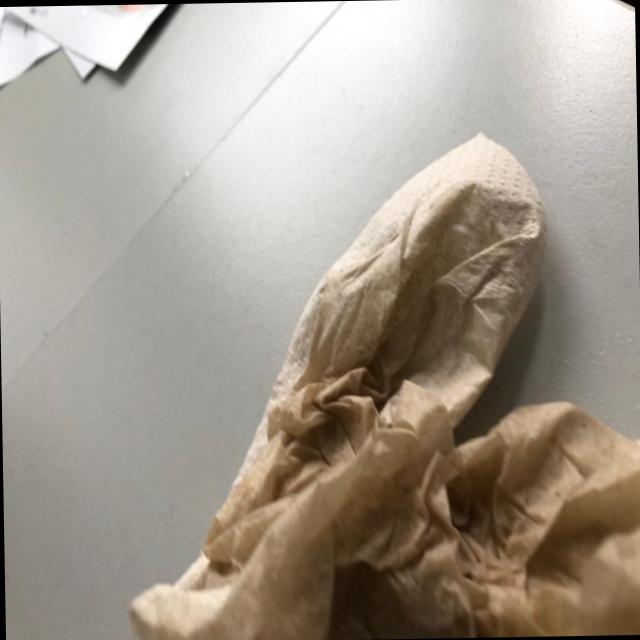organic waste: (120, 129, 640, 640)
